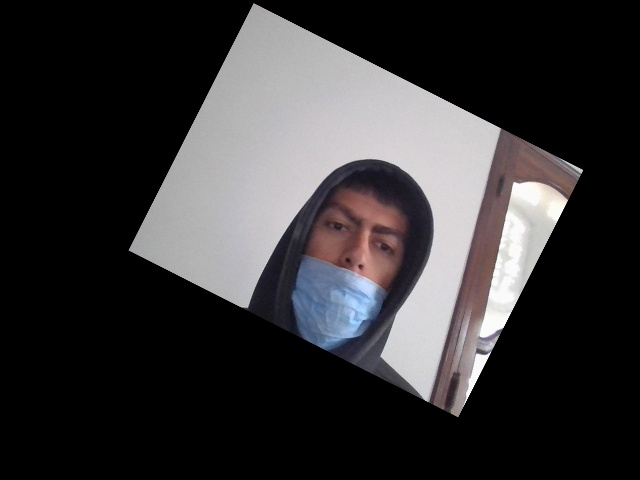mask_weared_incorrect: (282, 170, 420, 349)
